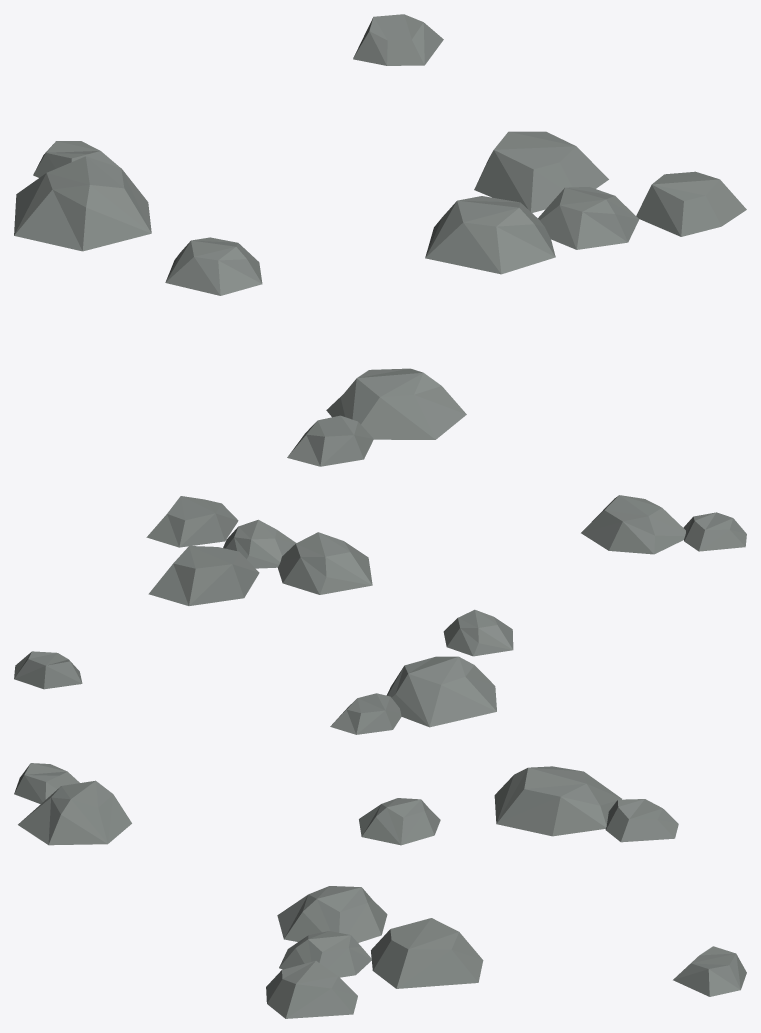
Rendered from SM_Generic_Small_Rocks_01.fbx.
The picture shows the model from 3 angles, top to bottom: view 1: azimuth 30°, elevation 25°; view 2: azimuth 150°, elevation 25°; view 3: azimuth 270°, elevation 25°; orthographic projection. The views are drawn at different scales.
Visible parts, largest first — view 1: SM_Generic_Small_Rocks_01; view 2: SM_Generic_Small_Rocks_01; view 3: SM_Generic_Small_Rocks_01.
Boxes of the visible parts, x1=… form: SM_Generic_Small_Rocks_01: x1=14, y1=14, x2=746, y2=466; SM_Generic_Small_Rocks_01: x1=14, y1=495, x2=746, y2=734; SM_Generic_Small_Rocks_01: x1=14, y1=763, x2=746, y2=1018.
Size of the model in its own units: 131 by 9.5 by 163.
